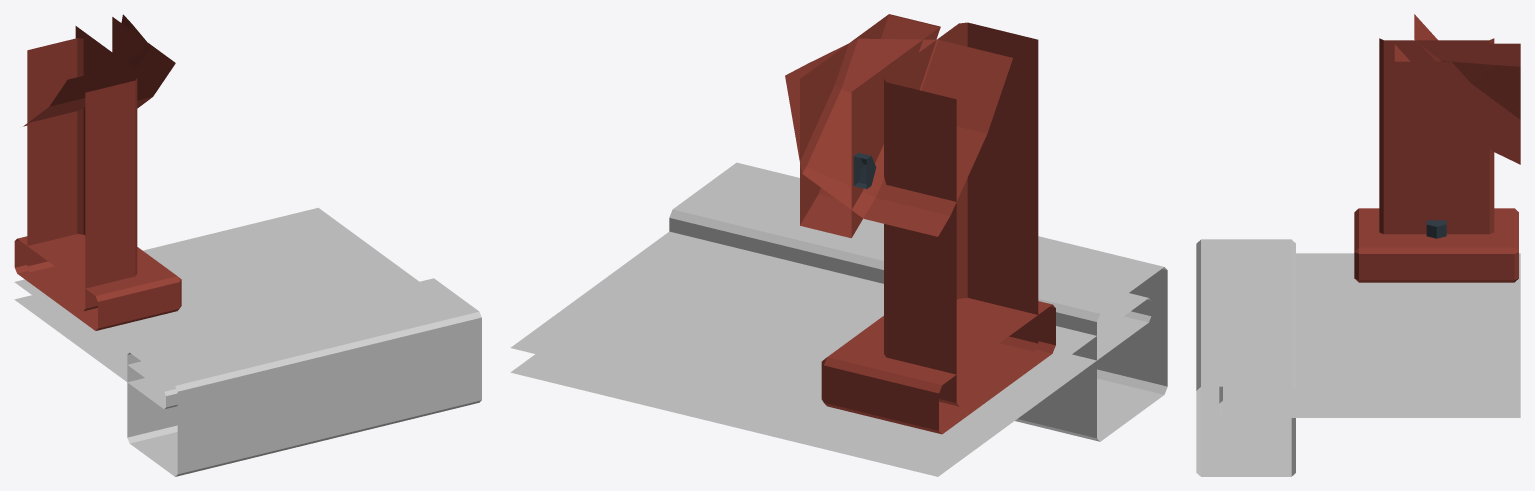
Rendered from cell_21.obj.
3 renders of one model, left to right at view 1: azimuth 30°, elevation 25°; view 2: azimuth 150°, elevation 25°; view 3: azimuth 270°, elevation 25°, orthographic. The views are drawn at different scales.
Bounding box in the file's own units: 1 × 1 × 0.93.
